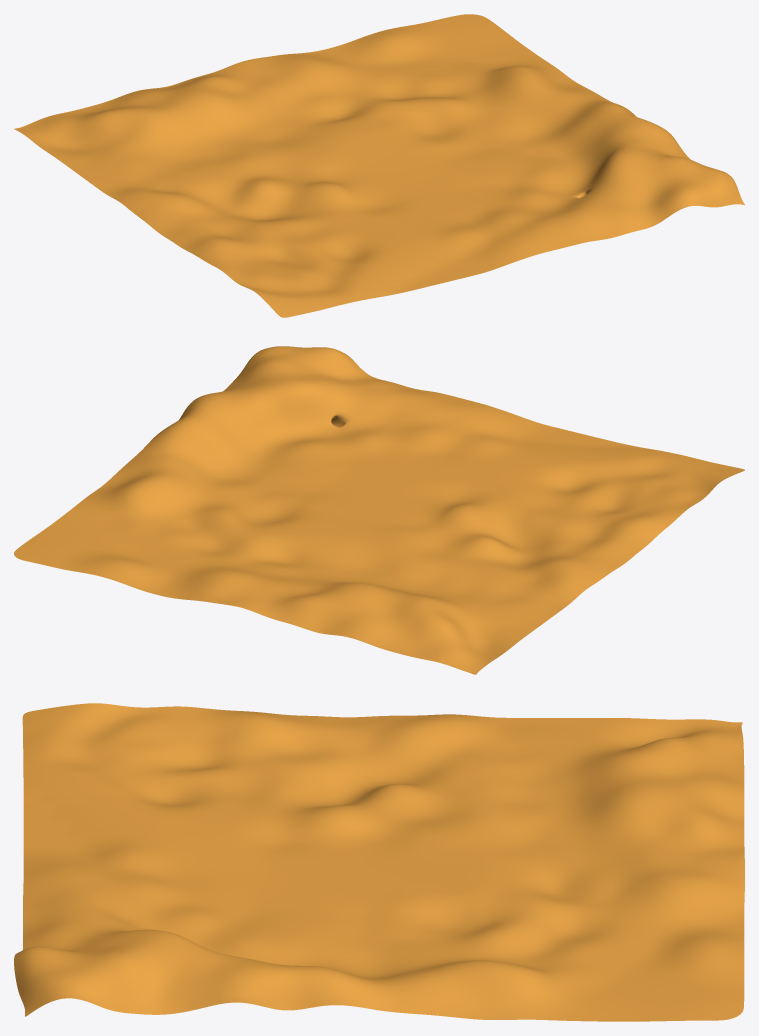
Rendered from TERRRRRRAAAAAAIiiiiiinnnnnnn.fbx.
3 views of the same model, one above another, from view 1: azimuth 30°, elevation 25°; view 2: azimuth 150°, elevation 25°; view 3: azimuth 270°, elevation 25° (orthographic). The views are drawn at different scales.
Visible parts, largest first — view 1: Plane; view 2: Plane; view 3: Plane.
Boxes of the visible parts, x1=… form: Plane: x1=14, y1=14, x2=744, y2=317; Plane: x1=14, y1=346, x2=744, y2=674; Plane: x1=14, y1=703, x2=744, y2=1021.
Size of the model in its own units: 825 by 75.81 by 831.
